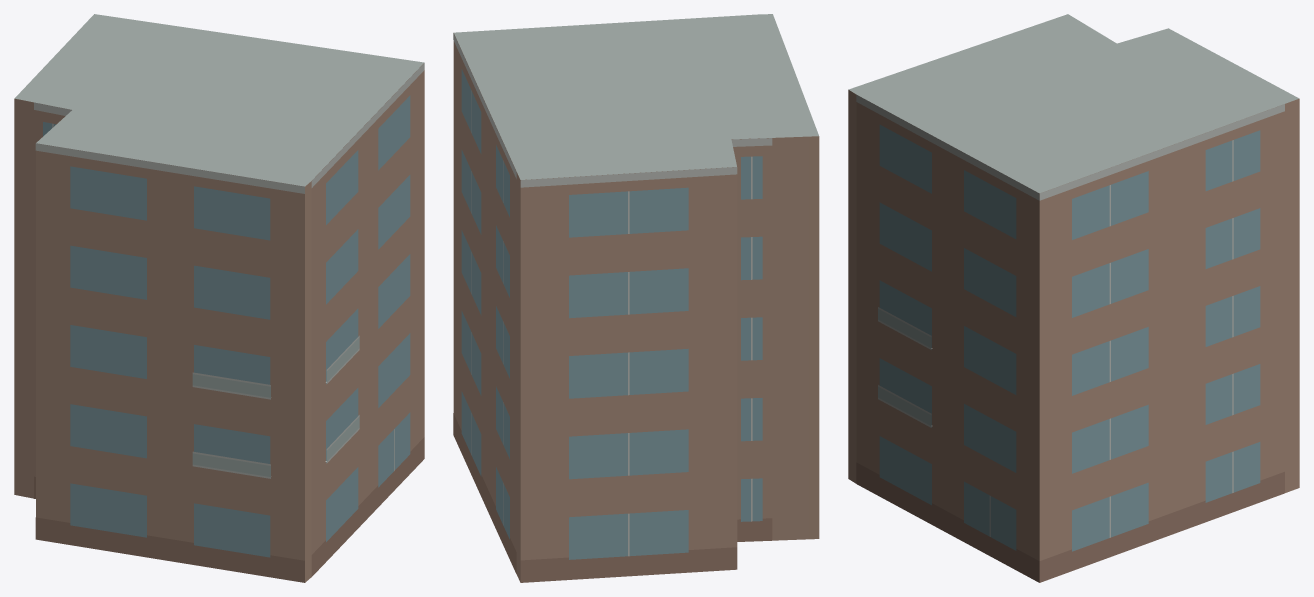
Rendered from survey-upis-32917098.glb.
The picture shows the model from 3 angles, left to right: view 1: azimuth 30°, elevation 25°; view 2: azimuth 150°, elevation 25°; view 3: azimuth 270°, elevation 25°; orthographic projection. The views are drawn at different scales.
Visible parts, largest first — view 1: survey-upis-32917098.tmp; view 2: survey-upis-32917098.tmp; view 3: survey-upis-32917098.tmp.
Part boxes in pixels (left/top/right/bottom): survey-upis-32917098.tmp: left=14, top=14, right=424, bottom=582; survey-upis-32917098.tmp: left=453, top=14, right=819, bottom=582; survey-upis-32917098.tmp: left=848, top=14, right=1299, bottom=582.
Bounding box in the file's own units: 12.82 × 12.96 × 13.62.
